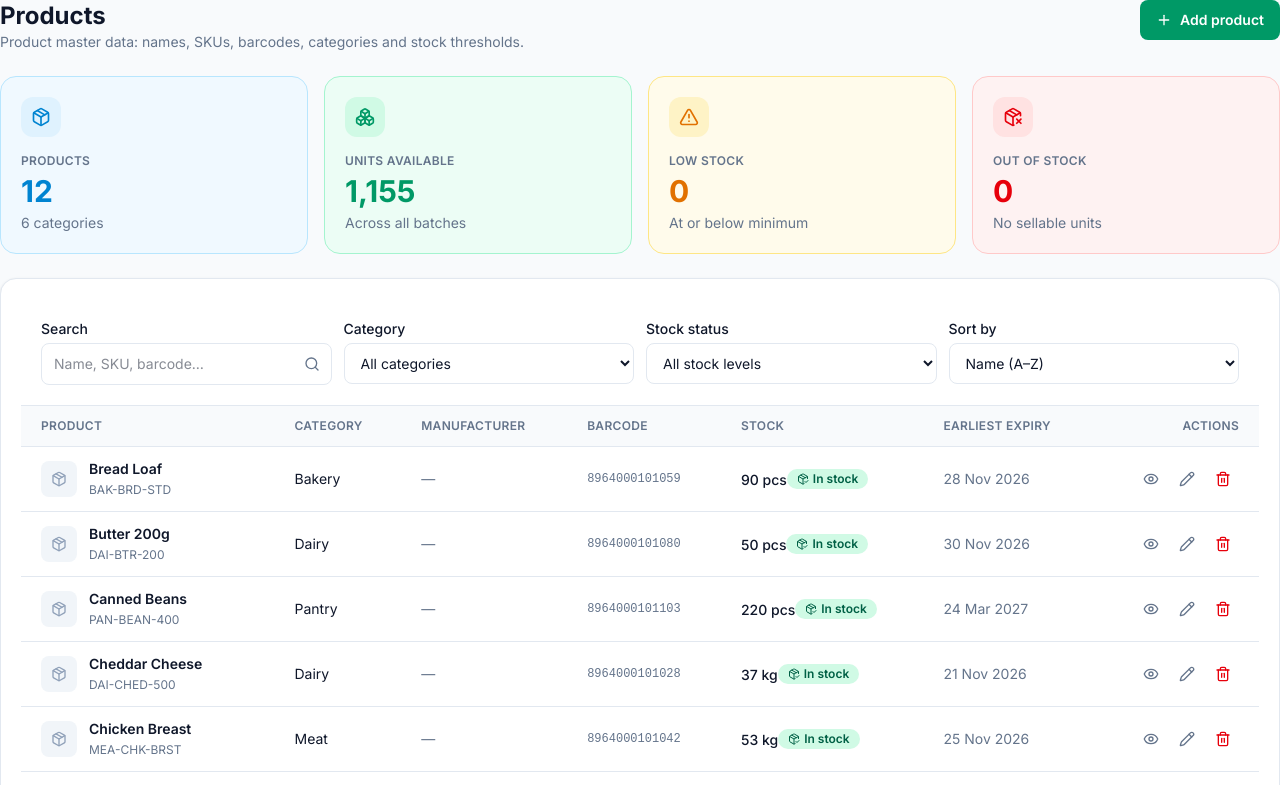
Test: ProductsPage › filters the table as the search term changes
This screenshot has width=1280, height=785.
Type "chicken" into the field labelled "Search" at (186, 364), box [41,343,332,385]
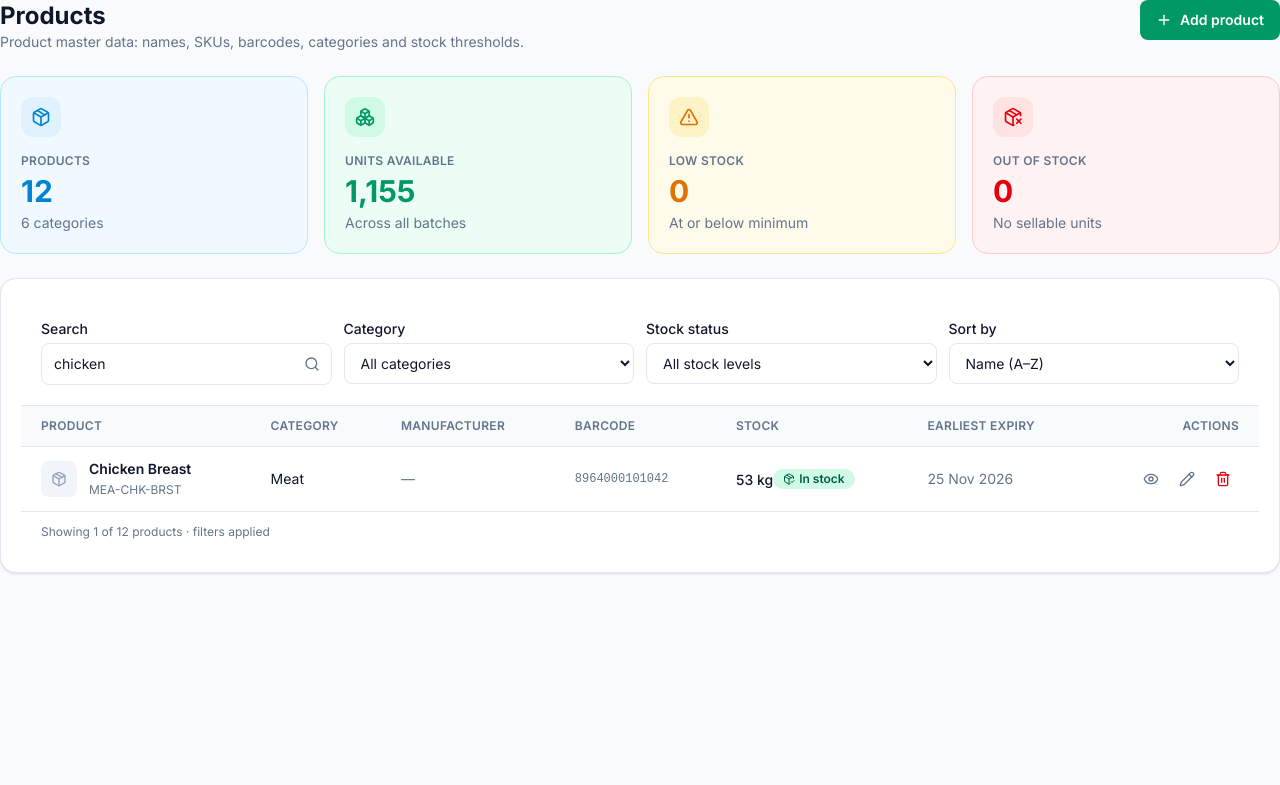
Expected: the button "Chicken Breast" is shown, [89,459,191,479]
Expected: the text "Showing 1 of 12 products · filters applied" is shown, [21,511,1259,552]
